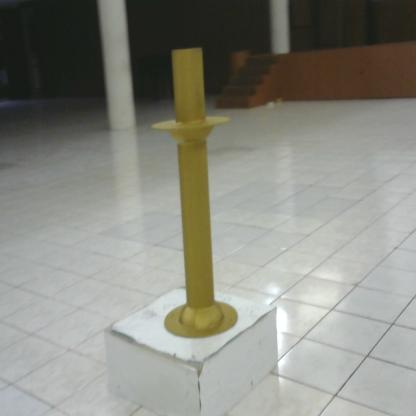pole: (145, 40, 246, 348)
